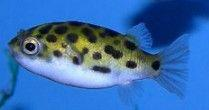Green Spotted Puffer: (9, 19, 193, 105)
